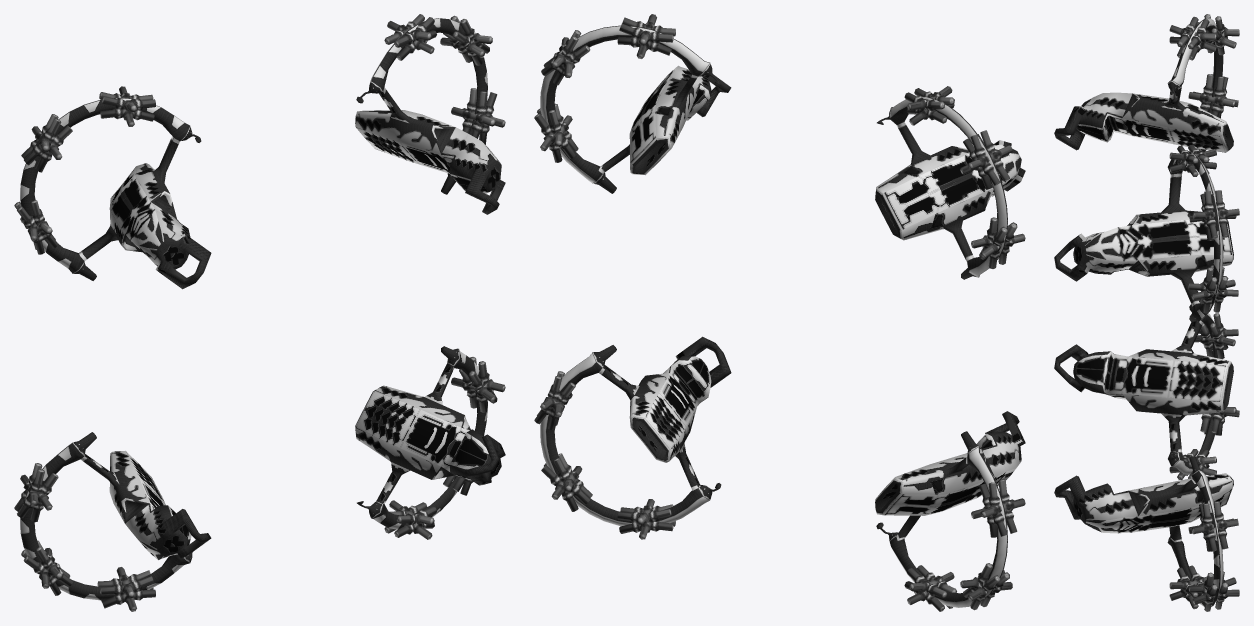
The model's file is MotorT2.fbx.
The picture shows the model from 3 angles, left to right: view 1: azimuth 30°, elevation 25°; view 2: azimuth 150°, elevation 25°; view 3: azimuth 270°, elevation 25°; orthographic projection. The views are drawn at different scales.
Visible parts, largest first — view 1: Cube; view 2: Cube; view 3: Cube.
Part boxes in pixels (x1,y1,x2,y2): Cube: (14, 14, 505, 611); Cube: (534, 14, 1025, 611); Cube: (1054, 14, 1239, 611).
Bounding box in the file's own units: 3.12 × 3.18 × 1.18.
Materials: 1 (1 with a texture image).
